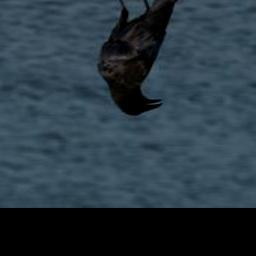Crow: (96, 0, 187, 117)
